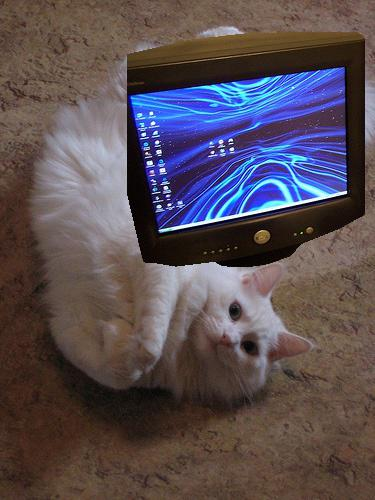tampered: (128, 33, 365, 267)
